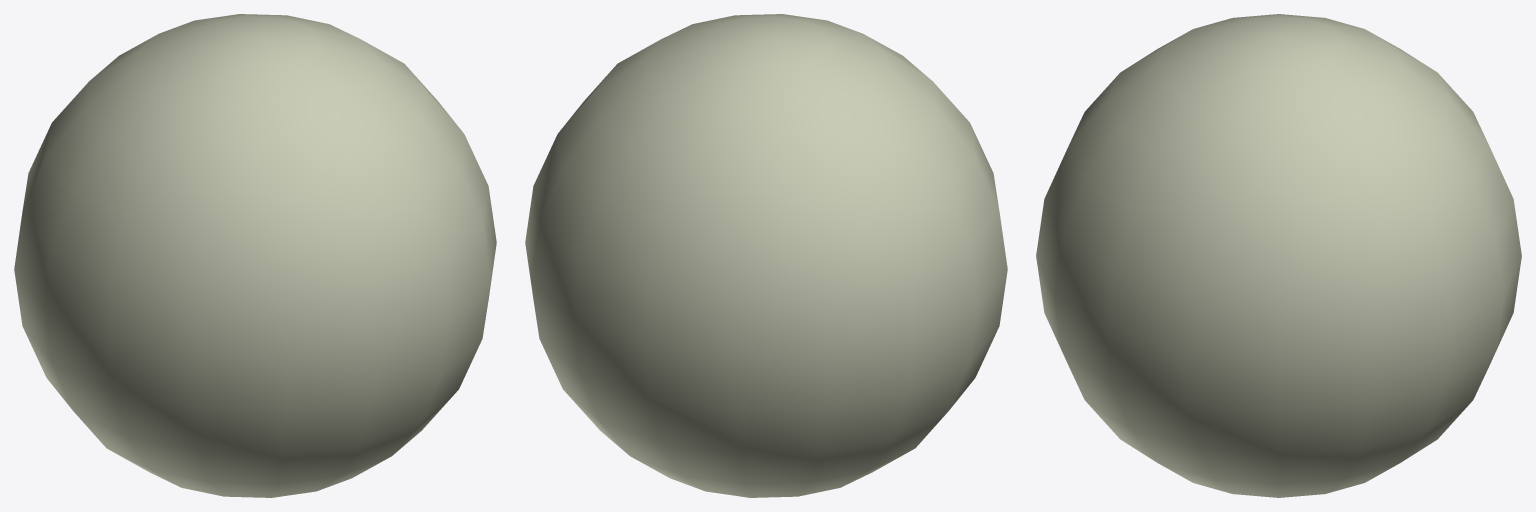
The model's file is bi_a_white.fbx.
The picture shows the model from 3 angles, left to right: view 1: azimuth 30°, elevation 25°; view 2: azimuth 150°, elevation 25°; view 3: azimuth 270°, elevation 25°; orthographic projection.
Parts seen in each view (by area): view 1: bi_a_white; view 2: bi_a_white; view 3: bi_a_white.
Boxes of the visible parts, <box> form: bi_a_white: <box>14,14,496,497</box>; bi_a_white: <box>525,14,1007,497</box>; bi_a_white: <box>1036,14,1521,497</box>.
Size of the model in its own units: 13.13 by 13.13 by 13.13.
